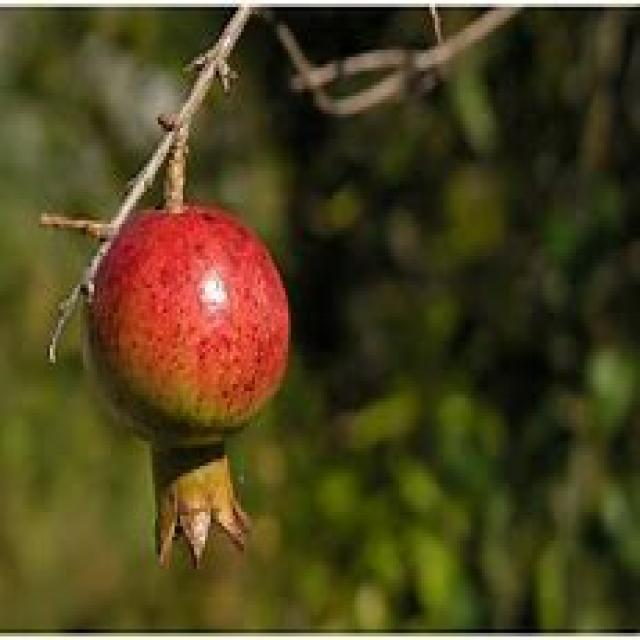Pomegranate: (82, 200, 294, 573)
